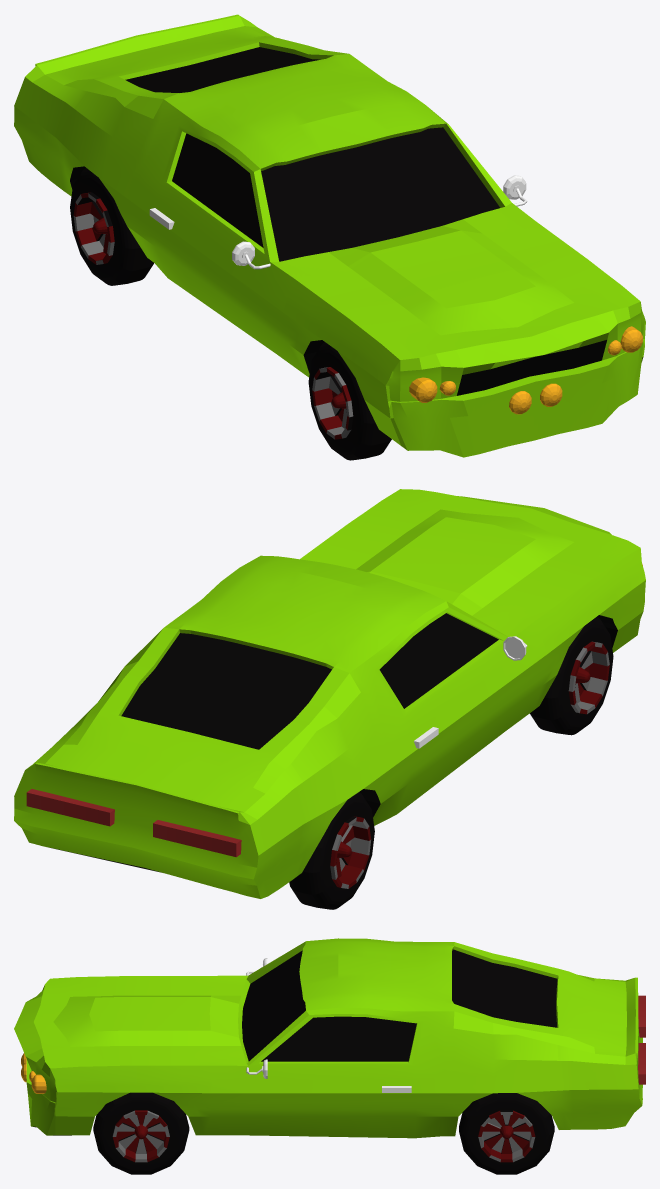
File: mustang.fbx
3 renders of one model, top to bottom at view 1: azimuth 30°, elevation 25°; view 2: azimuth 150°, elevation 25°; view 3: azimuth 270°, elevation 25°, orthographic. The views are drawn at different scales.
Parts seen in each view (by area): view 1: mustang; view 2: mustang; view 3: mustang.
Boxes of the visible parts, <box> form: mustang: <box>14,14,645,460</box>; mustang: <box>14,489,645,909</box>; mustang: <box>14,938,645,1174</box>.
Size of the model in its own units: 132 by 93.41 by 322.
